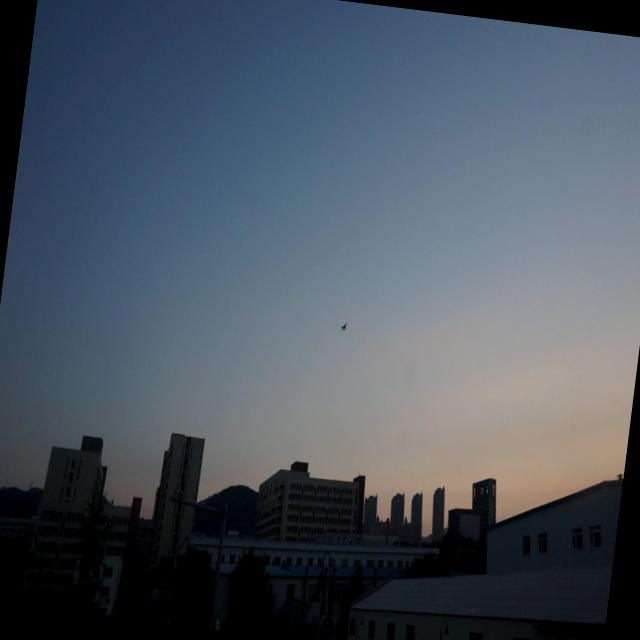drone: (338, 316, 350, 334)
